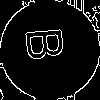B: (25, 25, 74, 62)
